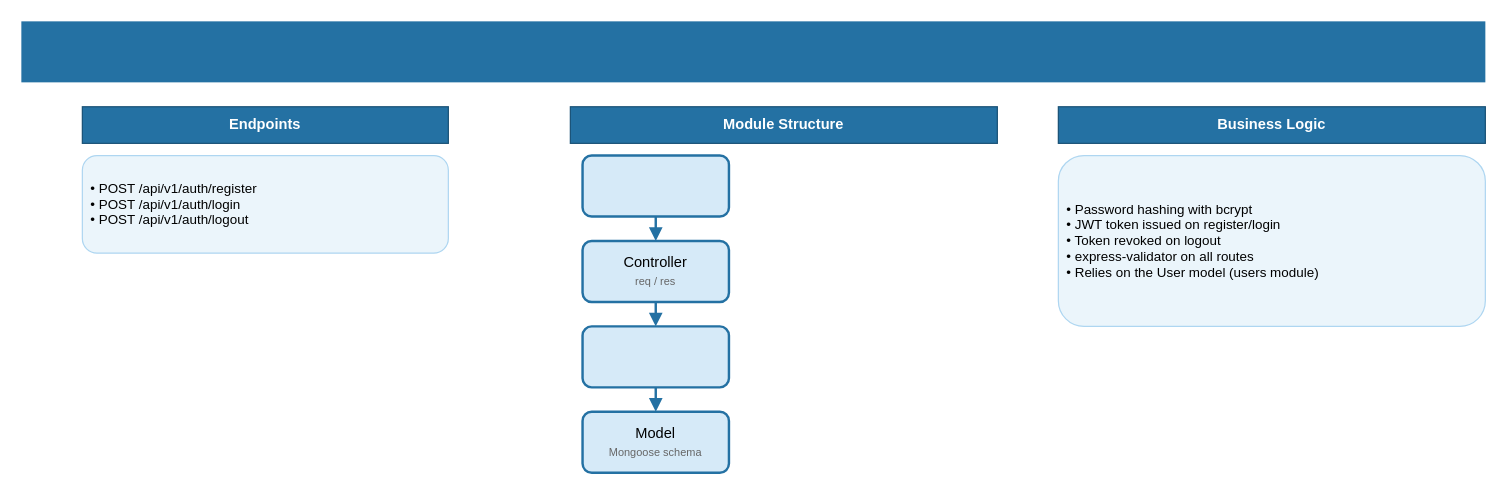
The diagram is 1507 pixels wide and 494 high, and some of its shapes have lost their labels. Each missing label, with the centre of its shape:
"AUTH MODULE Register, Login & Logout" goes at point 753,51.
"Route express-validator" goes at point 655,185.
"Service bcrypt, JWT, nodemailer" goes at point 655,356.
